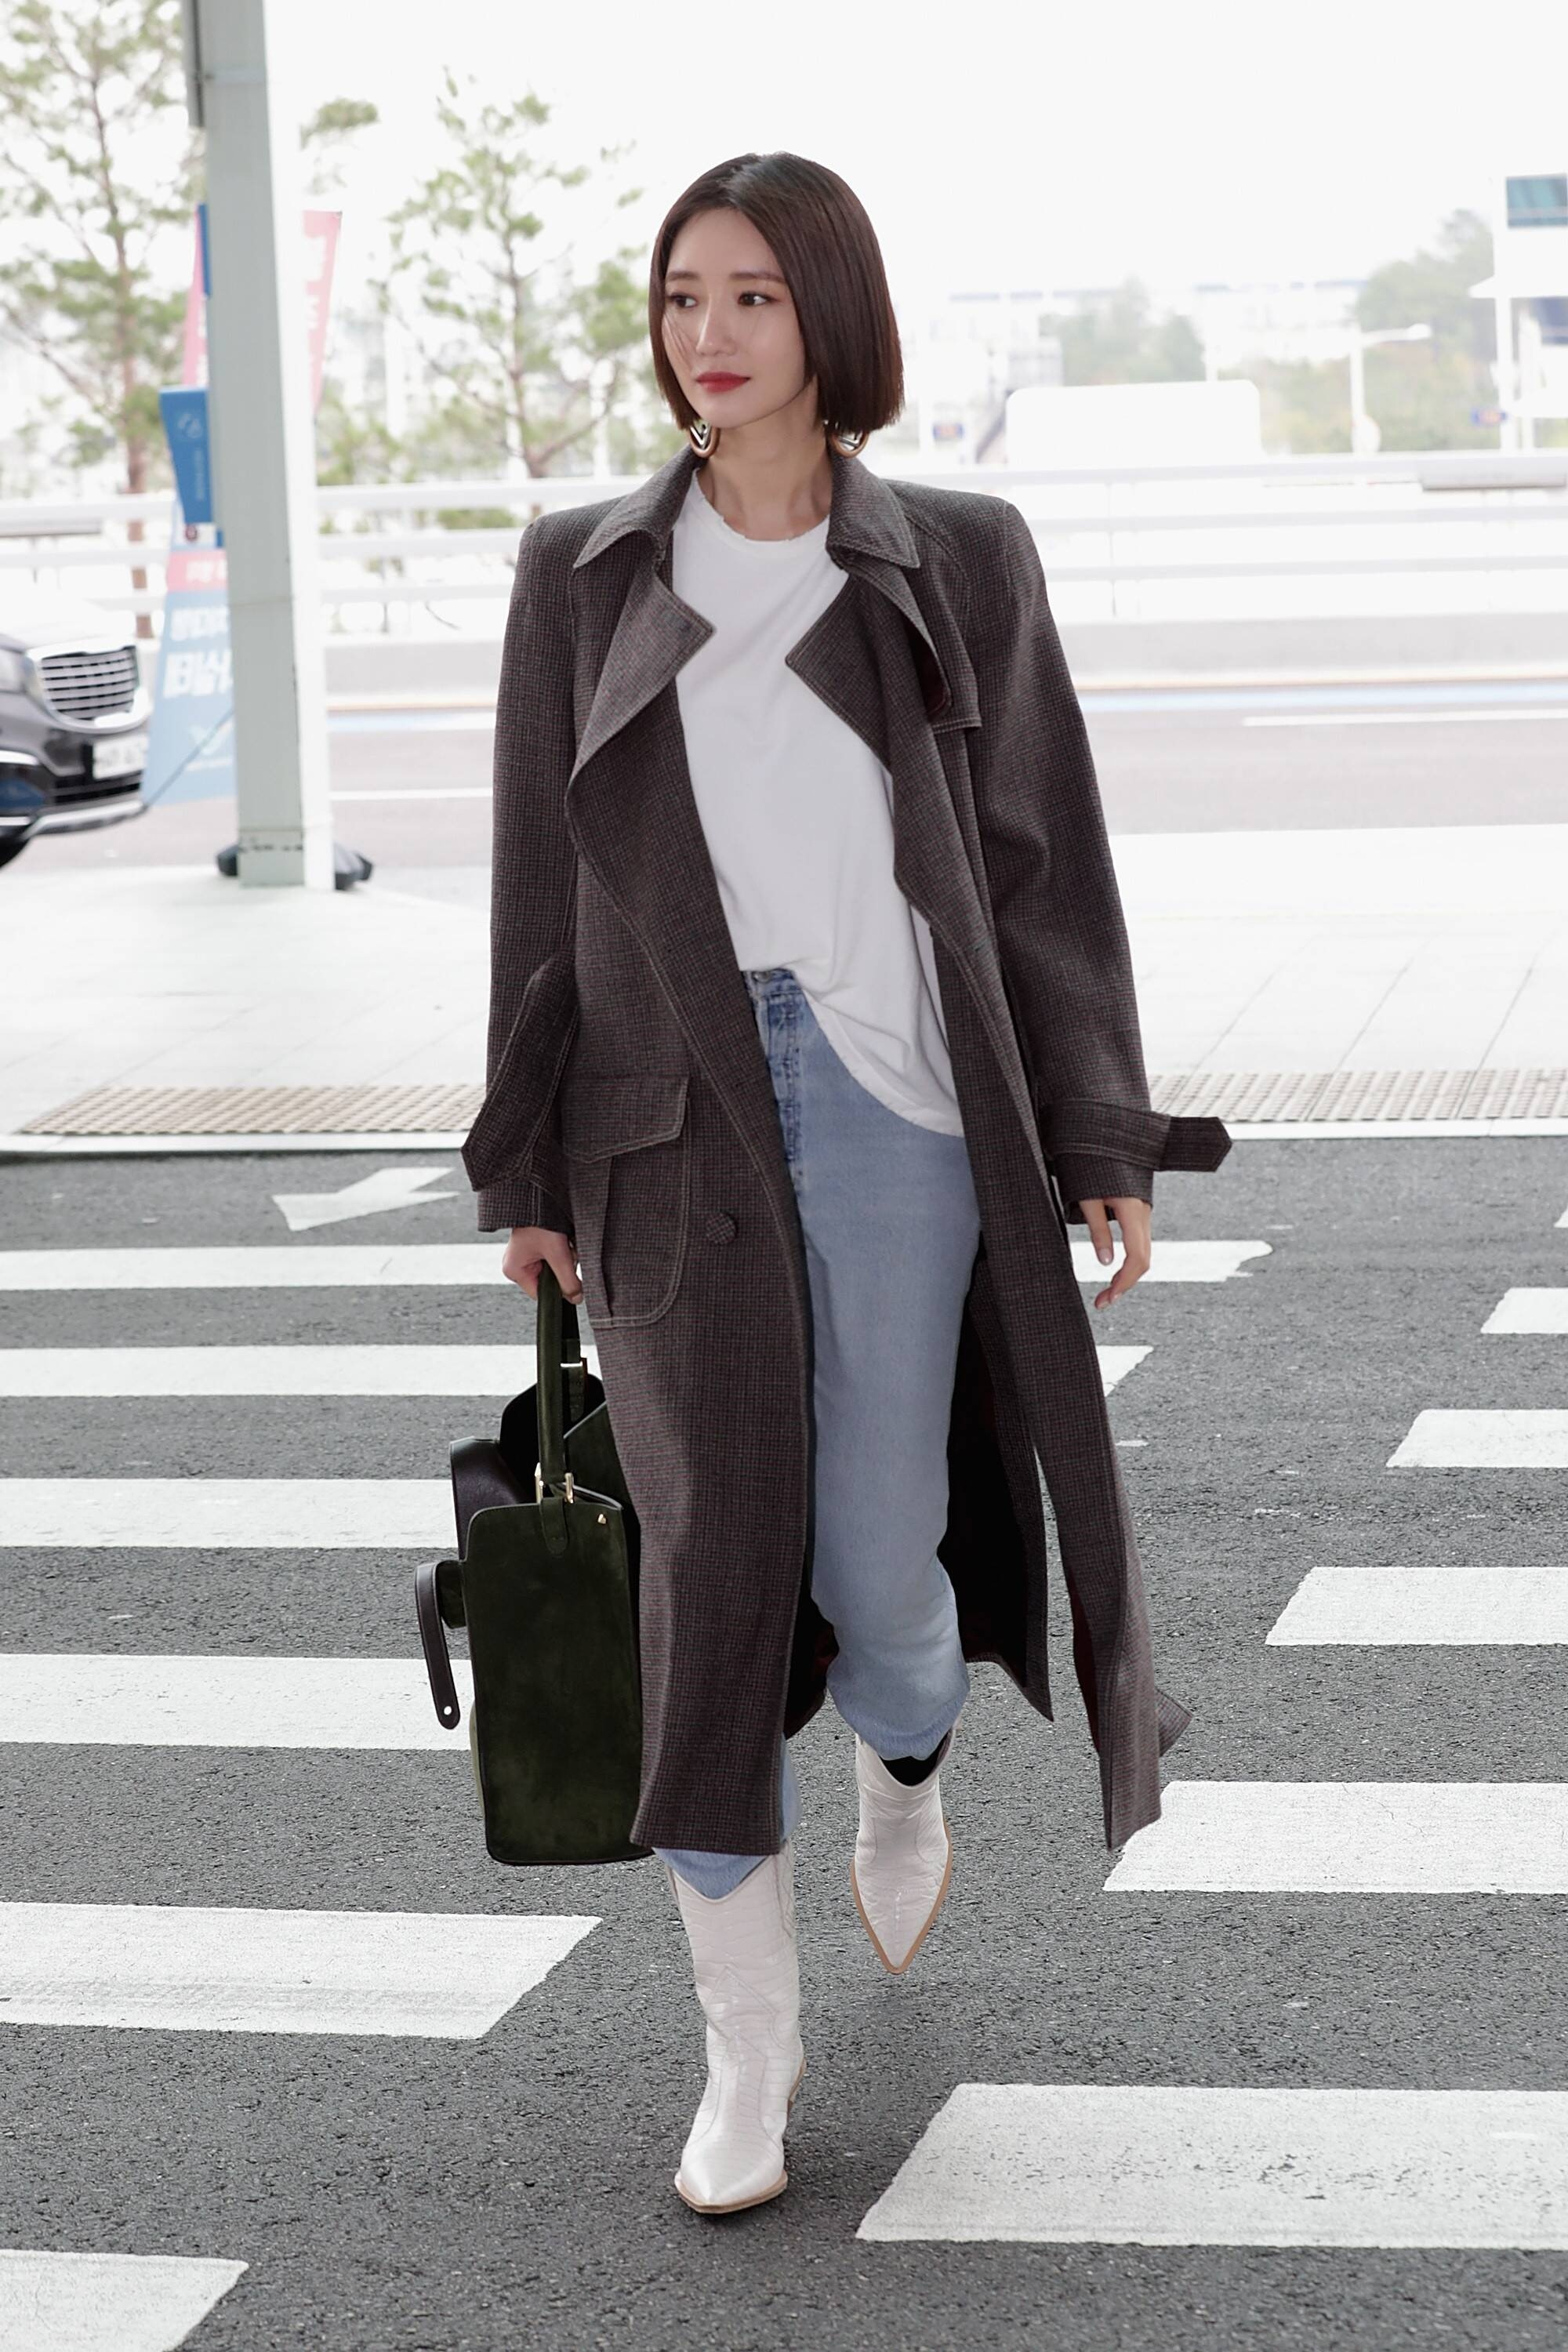face_no_mask: (648, 158, 893, 432)
